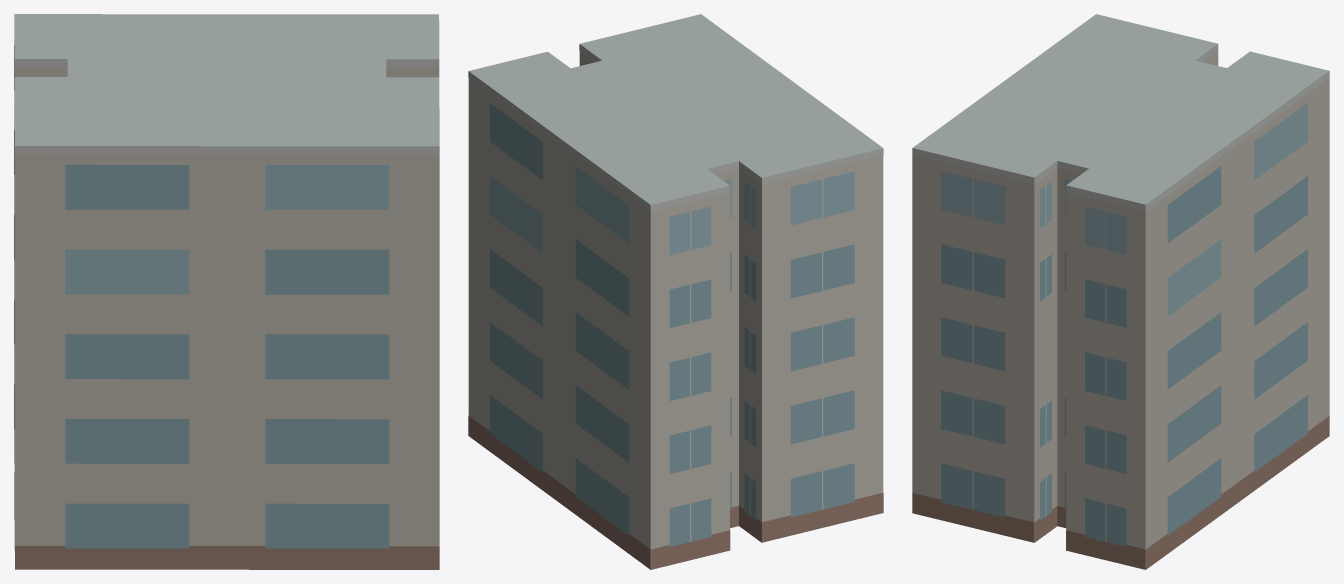
Rendered from survey-upis-32879970.glb.
The picture shows the model from 3 angles, left to right: view 1: azimuth 30°, elevation 25°; view 2: azimuth 150°, elevation 25°; view 3: azimuth 270°, elevation 25°; orthographic projection. The views are drawn at different scales.
Parts seen in each view (by area): view 1: survey-upis-32879970.tmp; view 2: survey-upis-32879970.tmp; view 3: survey-upis-32879970.tmp.
Boxes of the visible parts, x1,y1,x2,y2 form: survey-upis-32879970.tmp: [14, 14, 439, 569]; survey-upis-32879970.tmp: [468, 14, 883, 569]; survey-upis-32879970.tmp: [912, 14, 1329, 569].
Size of the model in its own units: 14.78 by 13.2 by 13.67.
